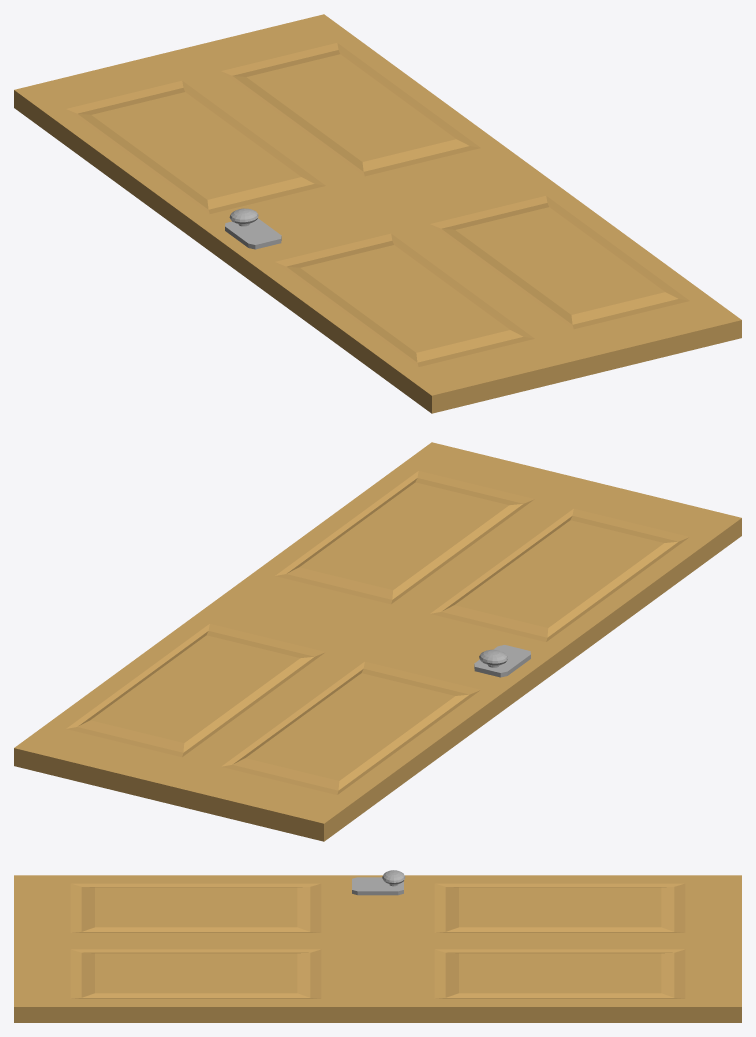
Rendered from DoorLarge.fbx.
3 renders of one model, top to bottom at view 1: azimuth 30°, elevation 25°; view 2: azimuth 150°, elevation 25°; view 3: azimuth 270°, elevation 25°, orthographic. The views are drawn at different scales.
Visible parts, largest first — view 1: Cube.001; view 2: Cube.001; view 3: Cube.001.
Boxes of the visible parts, x1,y1,x2,y2 form: Cube.001: (14, 14, 741, 413); Cube.001: (14, 442, 741, 841); Cube.001: (14, 870, 741, 1022).
Size of the model in its own units: 90 by 15.31 by 210.
